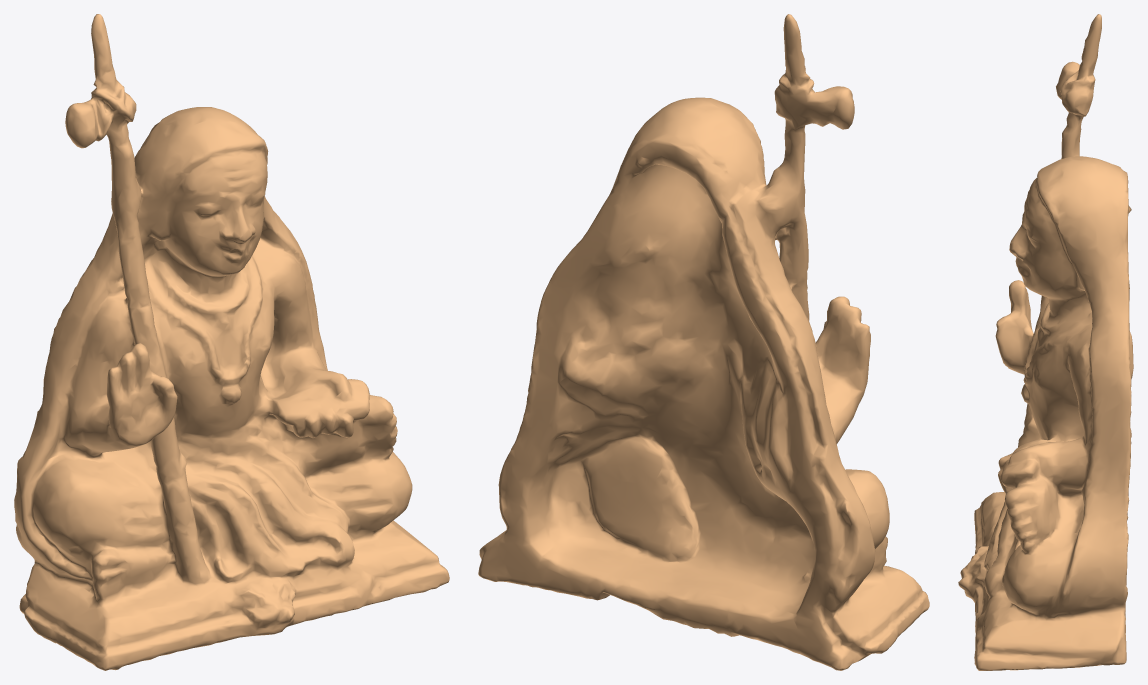
The model's file is Saivam_Aathi_Sankarar_01.glb.
3 views of the same model, side by side, from view 1: azimuth 30°, elevation 25°; view 2: azimuth 150°, elevation 25°; view 3: azimuth 270°, elevation 25° (orthographic). The views are drawn at different scales.
Parts seen in each view (by area): view 1: Saivam_Aathi_Sankarar_01; view 2: Saivam_Aathi_Sankarar_01; view 3: Saivam_Aathi_Sankarar_01.
Boxes of the visible parts, x1,y1,x2,y2 form: Saivam_Aathi_Sankarar_01: (14,14,449,670); Saivam_Aathi_Sankarar_01: (478,14,929,670); Saivam_Aathi_Sankarar_01: (958,14,1133,670).
Bounding box in the file's own units: 0.3437 × 0.5365 × 0.1587.
